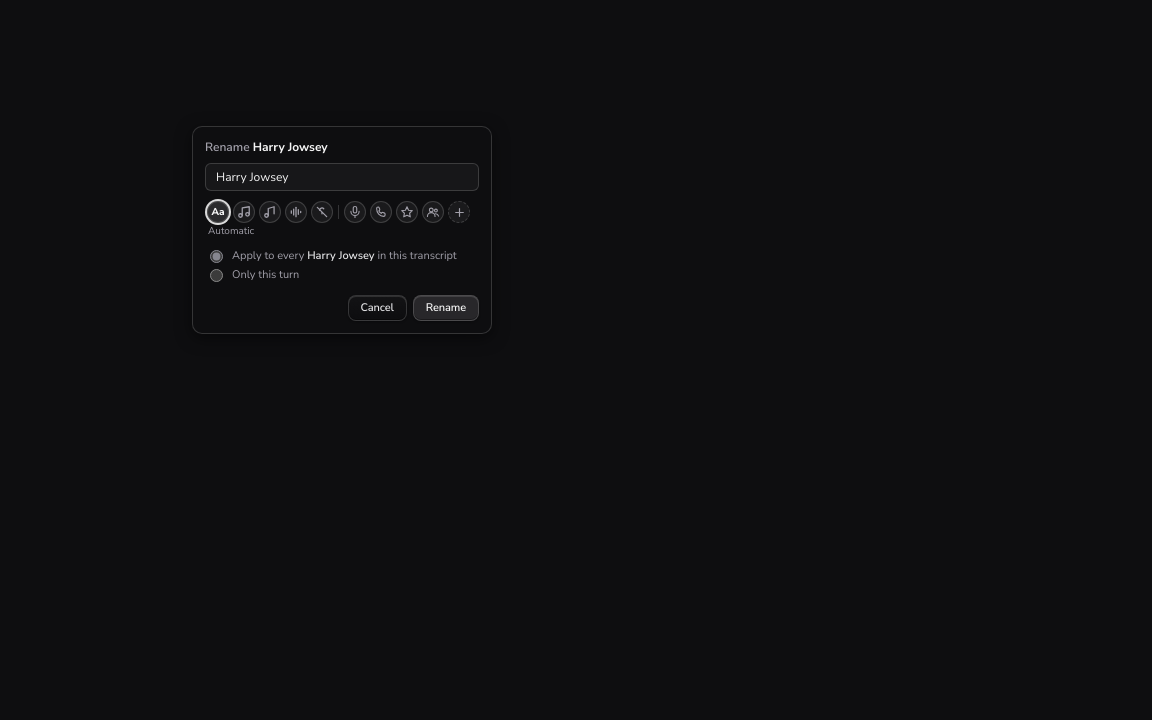
it: the sheet behind the plus › narrows to a search, and says so when nothing matches
This screenshot has width=1152, height=720.
Click the button titled "All icons": (459, 212) [448, 201, 470, 223]
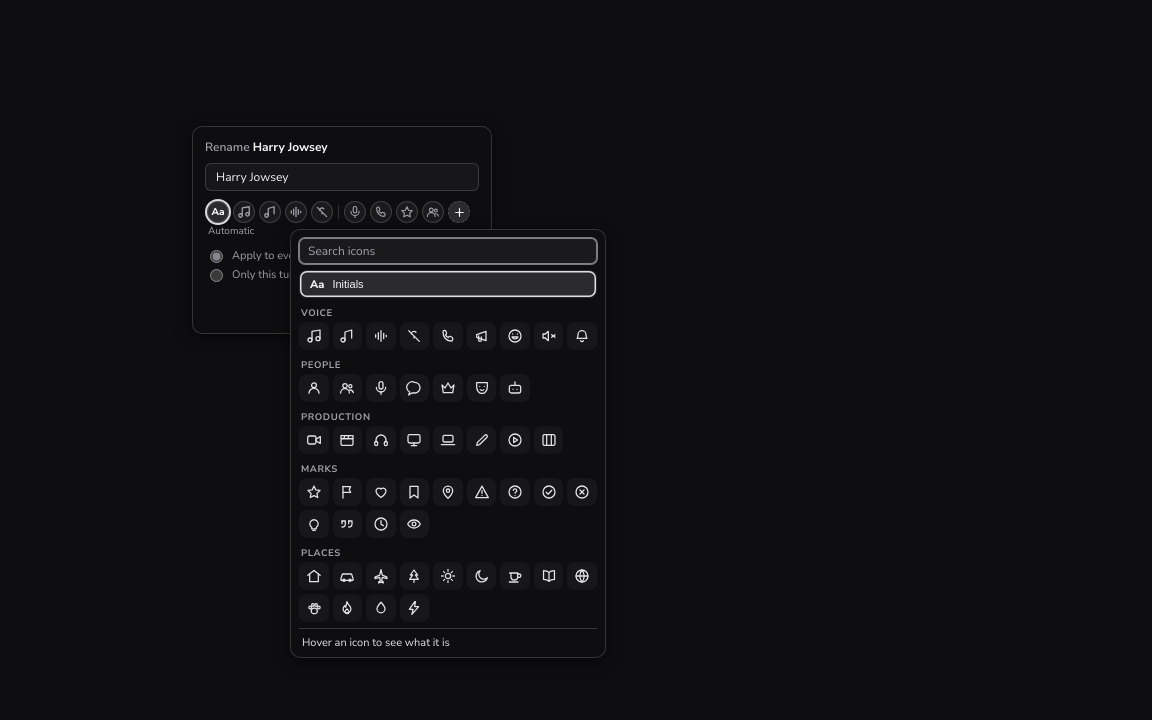
In the field with placeholder "Search icons": (448, 251) [299, 238, 597, 264], type "phone"
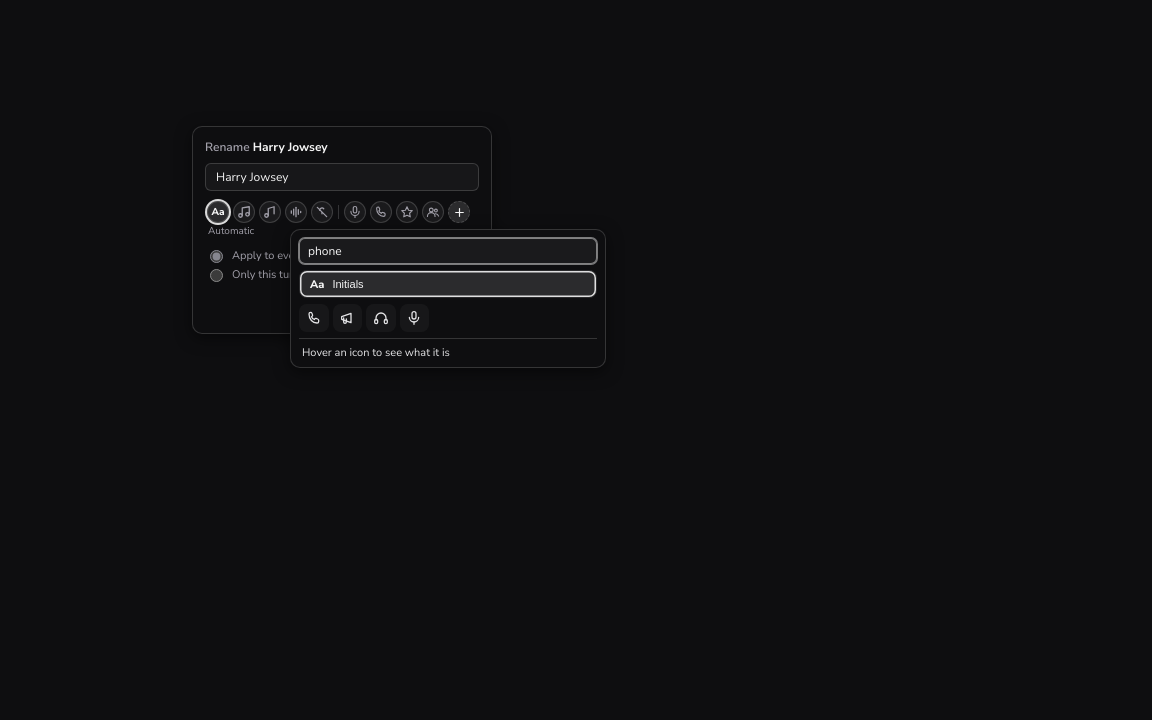
Expected: the 2nd button titled "Phone" is shown, [299, 304, 328, 332]
Replace the text in the 2nd field with placeholder "Search icons" with "zzzz": (448, 251) [299, 238, 597, 264]
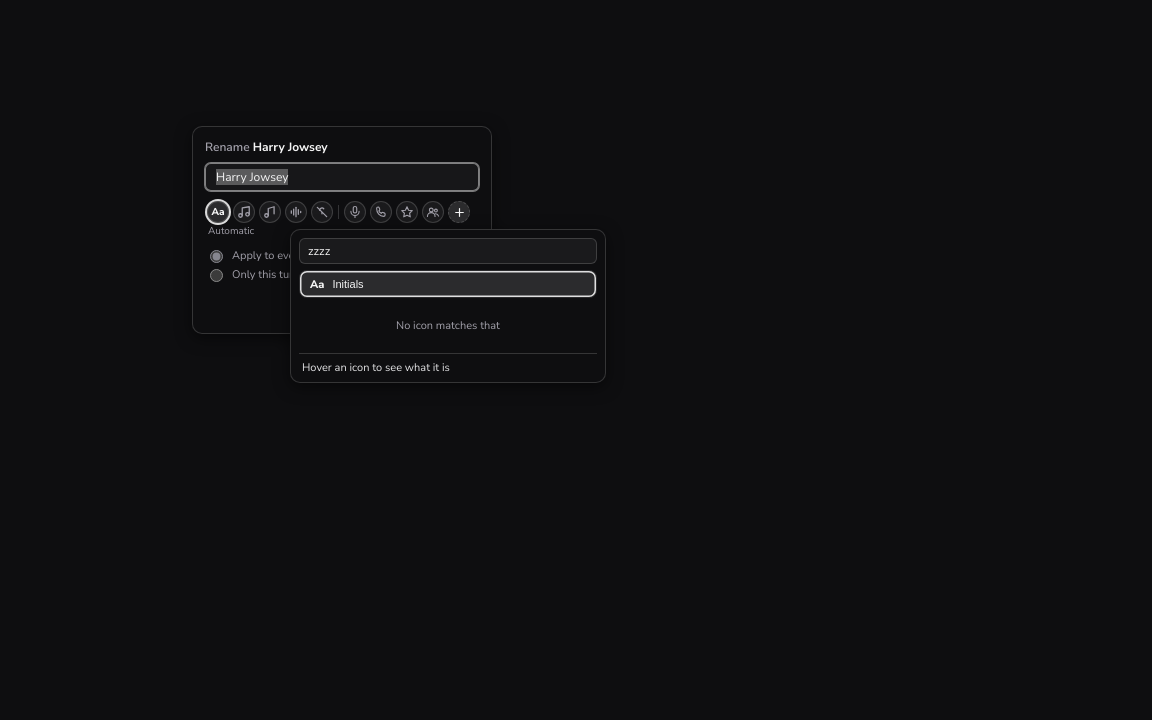
Expected: the text "No icon matches that" is shown, [396, 318, 500, 333]
